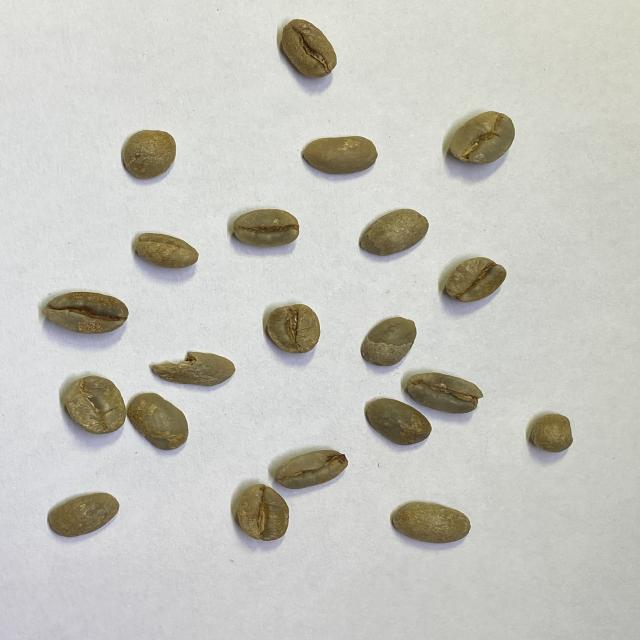bad: (148, 348, 237, 388), (403, 370, 483, 414), (273, 448, 350, 488)
good: (278, 16, 340, 79), (447, 110, 516, 166), (63, 376, 127, 436), (44, 292, 128, 337), (358, 207, 429, 259), (44, 491, 122, 538), (128, 391, 189, 451), (391, 500, 471, 545), (364, 396, 430, 446), (233, 484, 290, 541), (302, 135, 378, 177), (445, 256, 508, 304), (120, 128, 177, 181), (360, 314, 418, 366), (265, 302, 322, 354), (232, 208, 299, 248), (132, 232, 199, 270), (529, 412, 575, 452)
